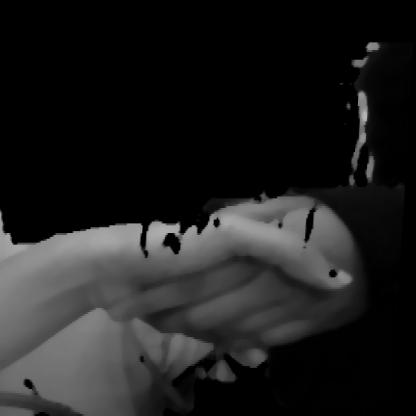handshake: (5, 154, 404, 398)
